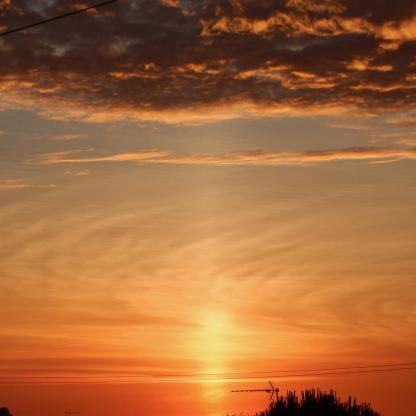other: (198, 310, 247, 402)
